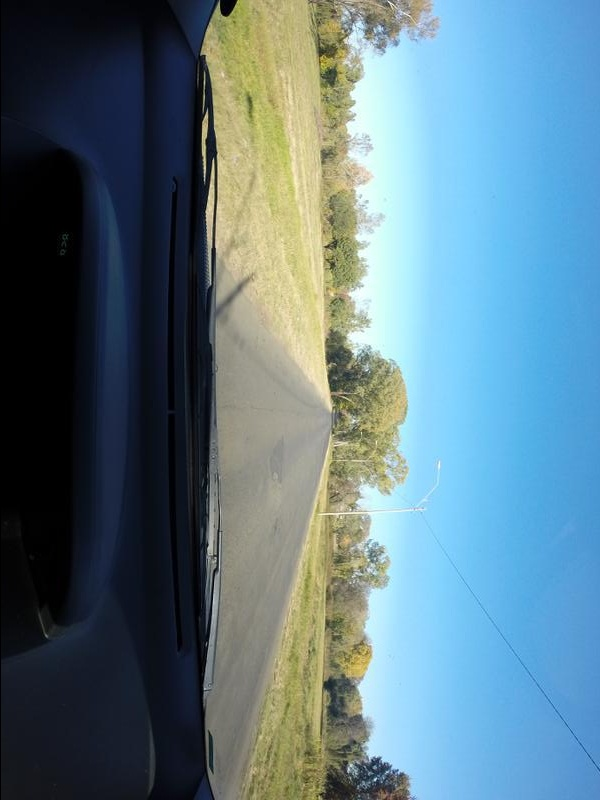pothole: (263, 517, 283, 544)
